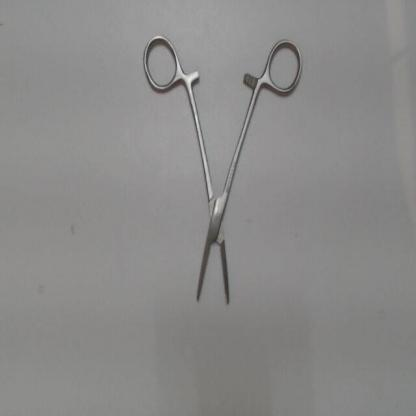Mayo Needle Holder: (138, 29, 309, 314)
